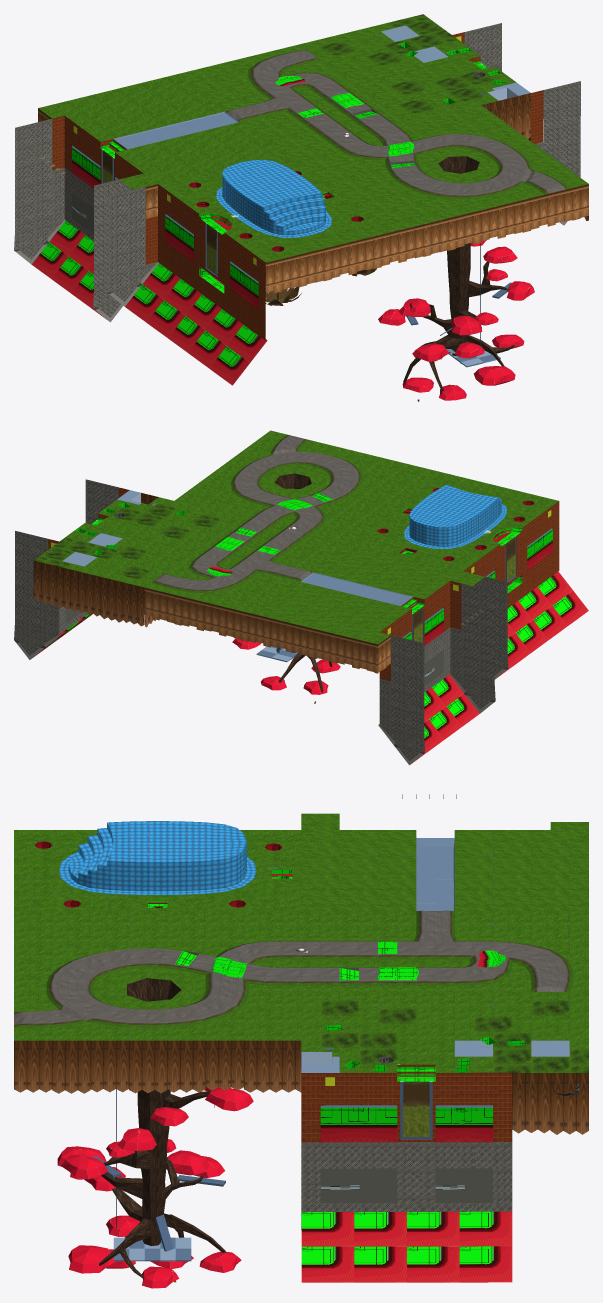
3 views of the same model, one above another, from view 1: azimuth 30°, elevation 25°; view 2: azimuth 150°, elevation 25°; view 3: azimuth 270°, elevation 25° (orthographic). The views are drawn at different scales.
Parts seen in each view (by area): view 1: Geom0Shape4_face01, Geom0Shape3_face00, Geom0Shape275_face00, Geom0Shape42_face01, Geom0Shape276_face00, Geom0Shape278_face00, Geom0Shape3_face01, Geom0Shape190_face00, Geom0Shape189_face00, Geom0Shape277_face00, Geom0Shape130_face00, Geom0Shape4_face00 (+54 smaller); view 2: Geom0Shape4_face01, Geom0Shape42_face01, Geom0Shape3_face00, Geom0Shape275_face00, Geom0Shape276_face00, Geom0Shape190_face00, Geom0Shape278_face00, Geom0Shape189_face00, Geom0Shape277_face00, Geom0Shape130_face00, Geom0Shape284_face00, Geom0Shape4_face00 (+46 smaller); view 3: Geom0Shape42_face00, Geom0Shape42_face01, Geom0Shape275_face00, Geom0Shape71_face00, Geom0Shape190_face00, Geom0Shape278_face00, Geom0Shape276_face00, Geom0Shape189_face00, Geom0Shape284_face00, Geom0Shape130_face00, Geom0Shape277_face00, Geom0Shape132_face00 (+53 smaller).
Part boxes in pixels (x1,y1,x2,y2): Geom0Shape4_face01: (14, 119, 131, 321); Geom0Shape3_face00: (125, 263, 267, 385); Geom0Shape275_face00: (311, 162, 439, 232); Geom0Shape42_face01: (464, 23, 580, 225); Geom0Shape276_face00: (239, 107, 379, 174); Geom0Shape278_face00: (368, 149, 501, 219); Geom0Shape3_face01: (107, 187, 145, 306); Geom0Shape190_face00: (299, 26, 423, 81); Geom0Shape189_face00: (349, 66, 468, 122); Geom0Shape277_face00: (175, 59, 288, 121); Geom0Shape130_face00: (38, 90, 162, 141); Geom0Shape4_face00: (31, 221, 106, 319); Geom0Shape4_face01: (379, 583, 495, 765); Geom0Shape42_face01: (14, 479, 118, 659); Geom0Shape3_face00: (495, 571, 588, 679); Geom0Shape275_face00: (334, 463, 447, 525); Geom0Shape276_face00: (267, 507, 377, 572); Geom0Shape190_face00: (78, 538, 189, 587); Geom0Shape278_face00: (284, 449, 403, 511); Geom0Shape189_face00: (134, 503, 240, 554); Geom0Shape277_face00: (200, 560, 307, 614); Geom0Shape130_face00: (312, 595, 411, 644); Geom0Shape284_face00: (200, 430, 303, 490); Geom0Shape4_face00: (378, 674, 479, 763); Geom0Shape42_face00: (301, 1211, 512, 1282); Geom0Shape42_face01: (301, 1115, 512, 1229); Geom0Shape275_face00: (14, 911, 224, 951); Geom0Shape71_face00: (301, 1072, 512, 1125); Geom0Shape190_face00: (454, 992, 588, 1041); Geom0Shape278_face00: (14, 943, 223, 984); Geom0Shape276_face00: (204, 911, 418, 950); Geom0Shape189_face00: (301, 992, 454, 1032); Geom0Shape284_face00: (14, 1006, 227, 1040); Geom0Shape130_face00: (454, 822, 588, 870); Geom0Shape277_face00: (416, 910, 588, 951); Geom0Shape132_face00: (454, 870, 588, 910).
Size of what is drawn, in the model's own units: 38888 by 19715 by 30002.
